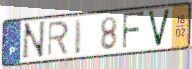8: (99, 15, 119, 51)
F: (122, 11, 146, 52)
I: (74, 16, 84, 57)
N: (20, 20, 47, 62)
R: (47, 19, 70, 58)
V: (146, 8, 172, 49)
